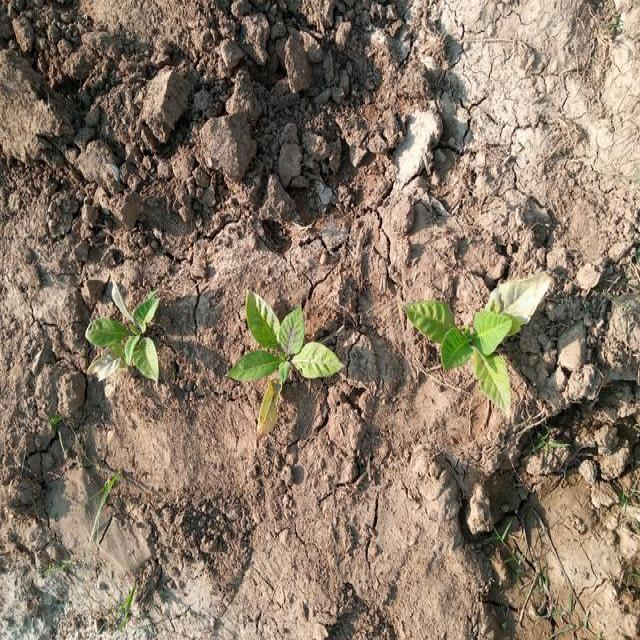crop: (408, 270, 552, 411), (222, 282, 342, 427), (82, 276, 169, 383)
